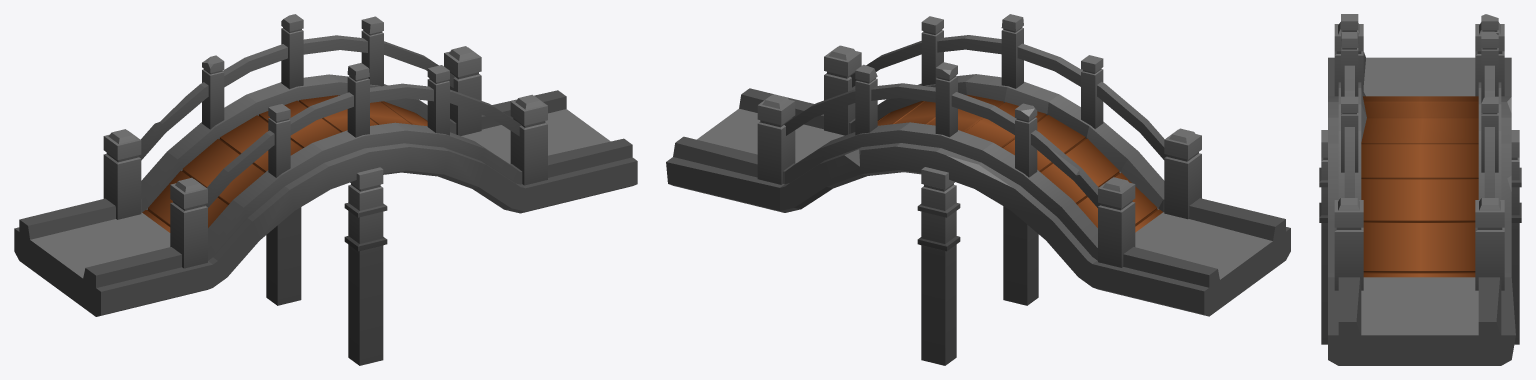
The model's file is stone_bridge_01.fbx.
3 renders of one model, left to right at view 1: azimuth 30°, elevation 25°; view 2: azimuth 150°, elevation 25°; view 3: azimuth 270°, elevation 25°, orthographic. The views are drawn at different scales.
Visible parts, largest first — view 1: Cube.072; view 2: Cube.072; view 3: Cube.072.
Boxes of the visible parts, bbox=[...] form: Cube.072: bbox=[14, 14, 637, 365]; Cube.072: bbox=[666, 14, 1290, 365]; Cube.072: bbox=[1319, 14, 1521, 365].
Bounding box in the file's own units: 12.72 × 6.48 × 3.92.
